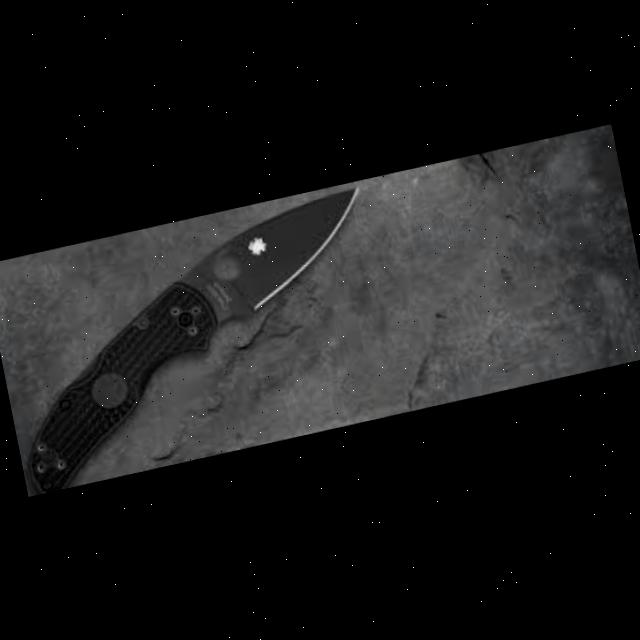Knife: (0, 186, 404, 497)
